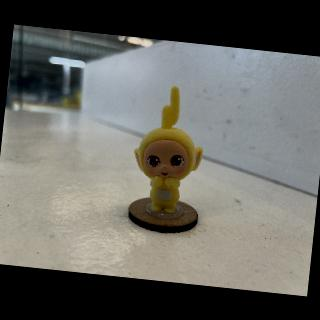teletubby: (134, 86, 202, 212)
